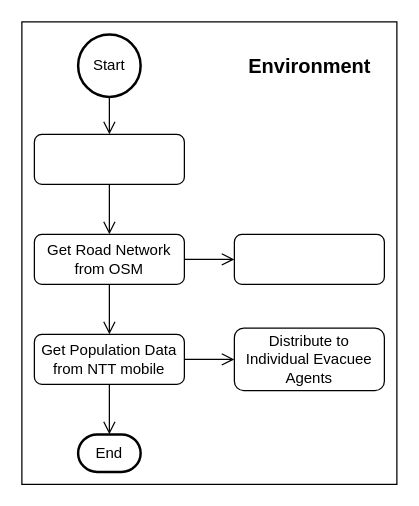
Some shapes in this 419 by 506 pixel diagram are drawn without their labels. Each missing label, with the box of its shape:
Cleanup Network graph: (233, 233, 384, 284)
Get AOS bbox: (33, 133, 184, 184)
